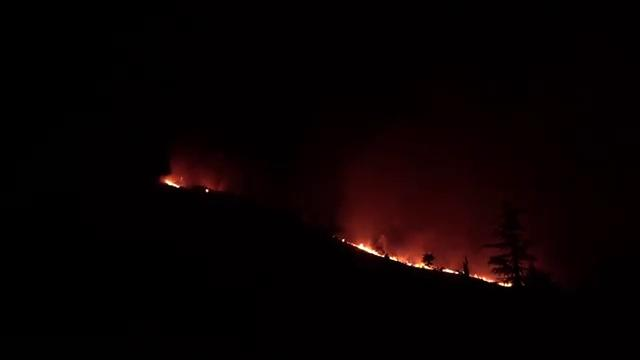fire: (477, 275, 512, 286), (359, 240, 379, 255), (160, 177, 181, 189), (411, 261, 431, 270)
